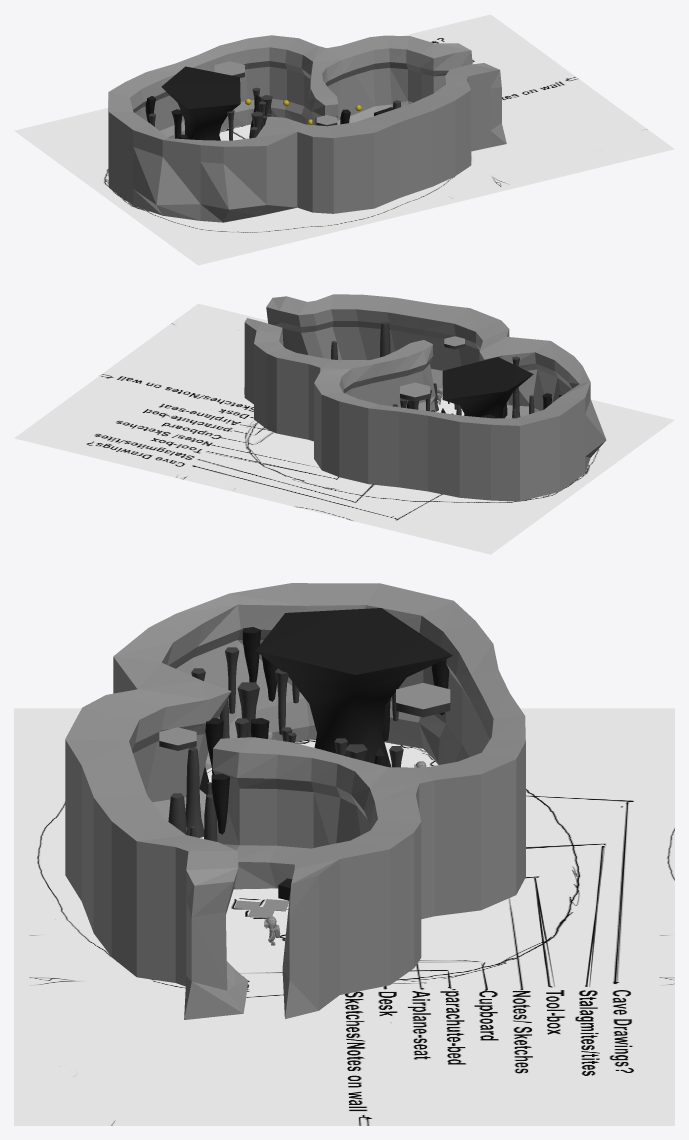
File: cave_placeholder_detached.FBX
3 views of the same model, one above another, from view 1: azimuth 30°, elevation 25°; view 2: azimuth 150°, elevation 25°; view 3: azimuth 270°, elevation 25° (orthographic). The views are drawn at different scales.
Parts seen in each view (by area): view 1: Plane002, Object009, Object033, Object032; view 2: Plane002, Object009, Object033, Object032; view 3: Object009, Plane002, Object033, Object032, Object037, Object010.
Boxes of the visible parts, x1=… form: Plane002: x1=108, y1=35, x2=506, y2=222; Object009: x1=14, y1=14, x2=674, y2=265; Object033: x1=161, y1=66, x2=240, y2=140; Object032: x1=214, y1=61, x2=244, y2=77; Plane002: x1=244, y1=294, x2=606, y2=501; Object009: x1=14, y1=303, x2=674, y2=554; Object033: x1=442, y1=357, x2=533, y2=418; Object032: x1=400, y1=382, x2=430, y2=401; Object009: x1=14, y1=708, x2=674, y2=1125; Plane002: x1=65, y1=583, x2=525, y2=1019; Object033: x1=255, y1=608, x2=452, y2=767; Object032: x1=396, y1=683, x2=450, y2=717; Object037: x1=185, y1=747, x2=203, y2=837; Object010: x1=211, y1=773, x2=229, y2=834.
Size of the model in its own units: 1663 by 293 by 1112.
Materials: 8 (1 with a texture image).
